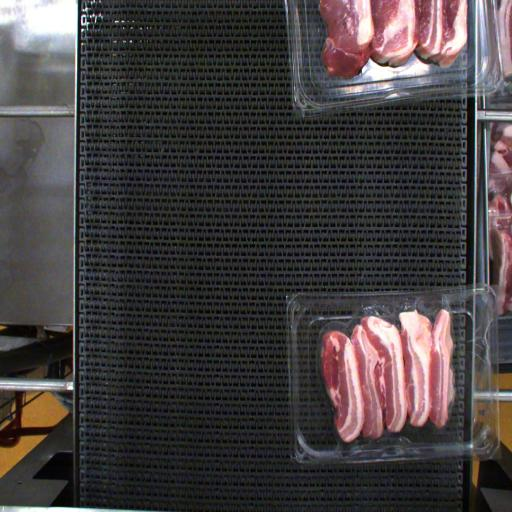unsealed: (315, 293, 470, 370)
